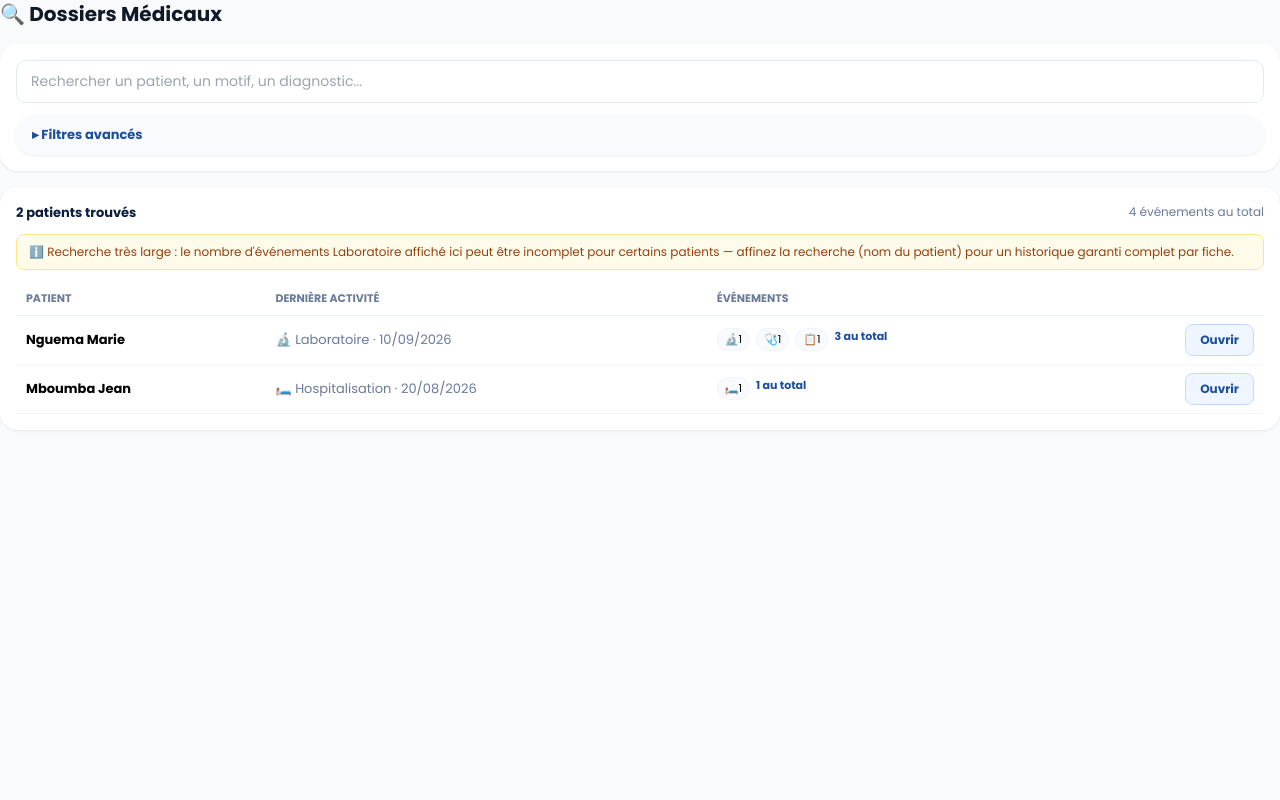
it: la fiche se ferme et n'affiche plus rien
Expected: the text "Nguema Marie" is shown, 16,315 -> 265,364
Click the button "Ouvrir" in the row of "Nguema Marie" at (1220, 340), box 1185,324 -> 1254,356
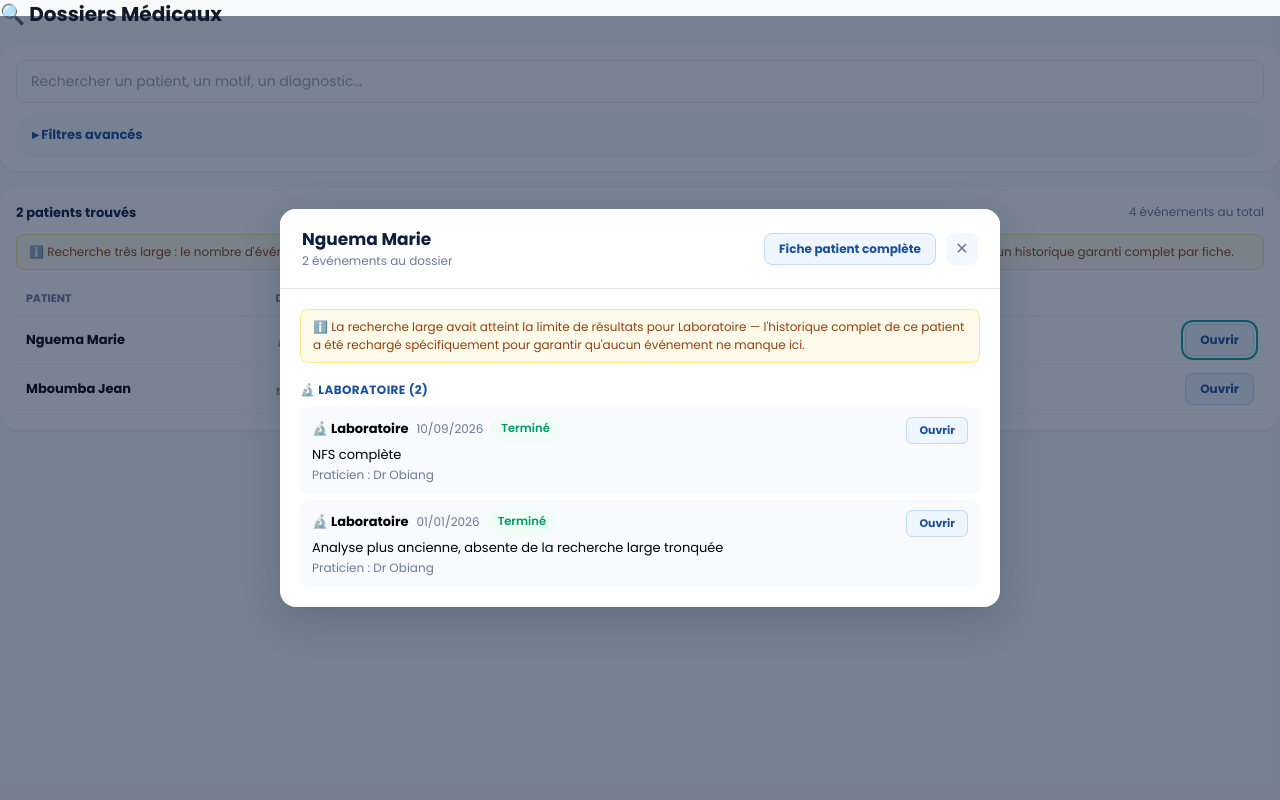
Click the button named "Fermer" at (962, 249), box 946,233 -> 978,265
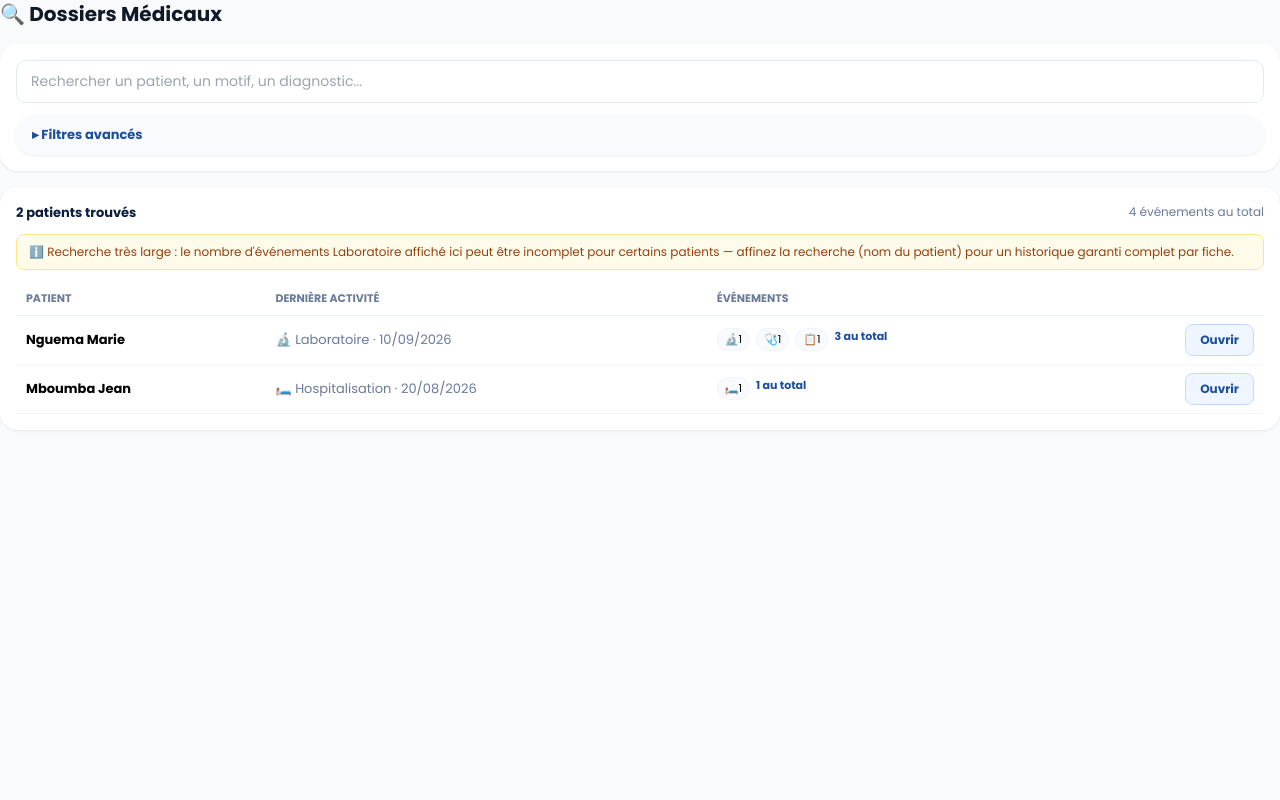
Result: the dialog is gone
